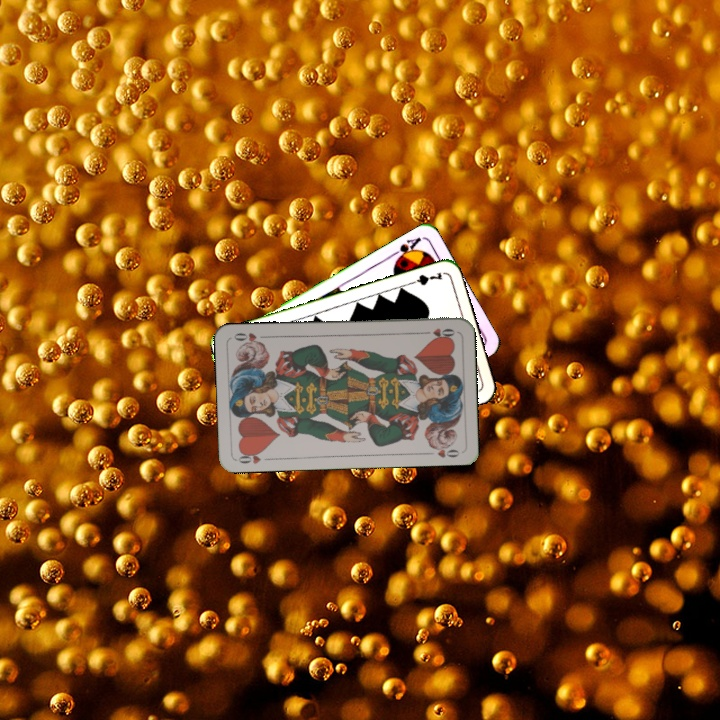G7: (405, 268, 445, 288)
HO: (235, 447, 274, 466), (418, 324, 458, 340)
SA: (386, 233, 424, 265)
